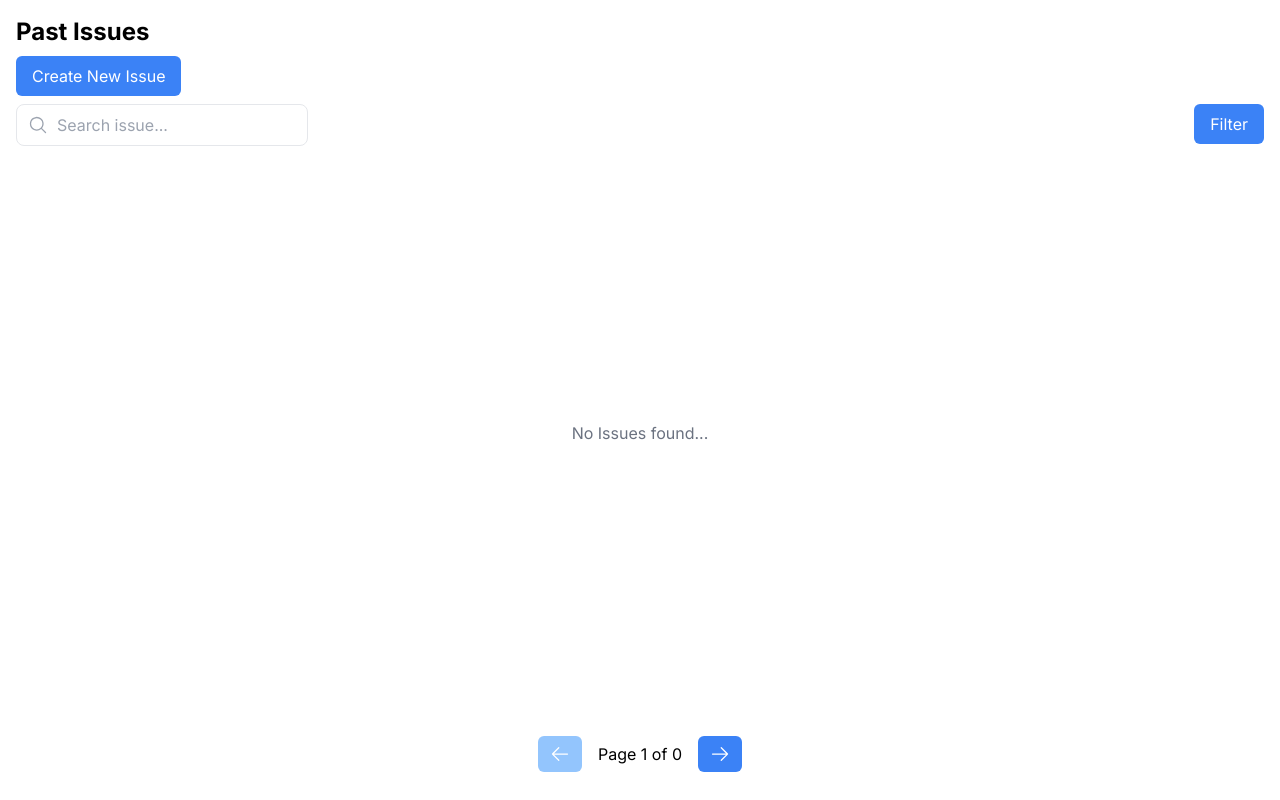
IssuesPage Component › should apply the filter
Click the button with test id "issues-page.filter-button.button" at coordinates (1229, 124), box x1=1194 y1=104 x2=1264 y2=144
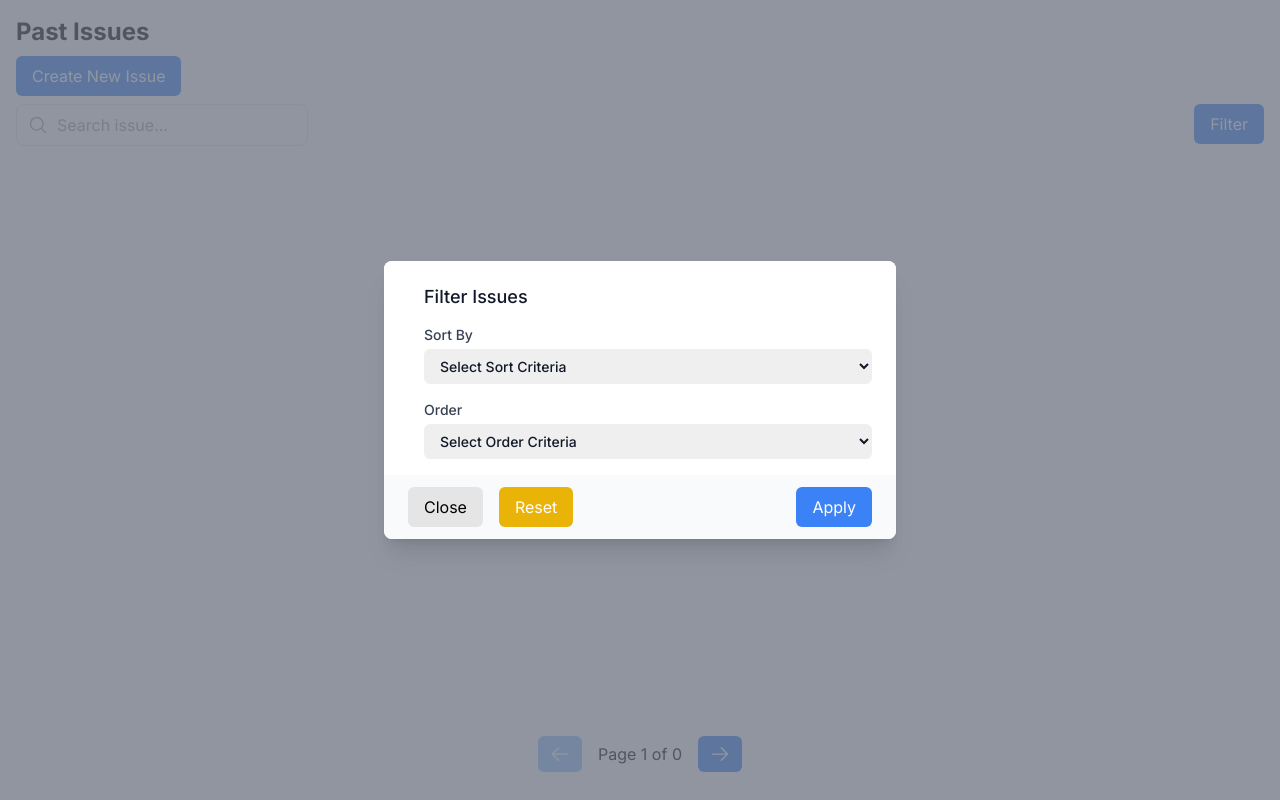
Expected: the text "Sort By" is shown, x1=424 y1=326 x2=473 y2=343
Select "Title" in the dropdown with test id "issues-page.filter-modal.sort-by-dropdown.dropdown-select" at coordinates (648, 366), box x1=424 y1=349 x2=872 y2=384
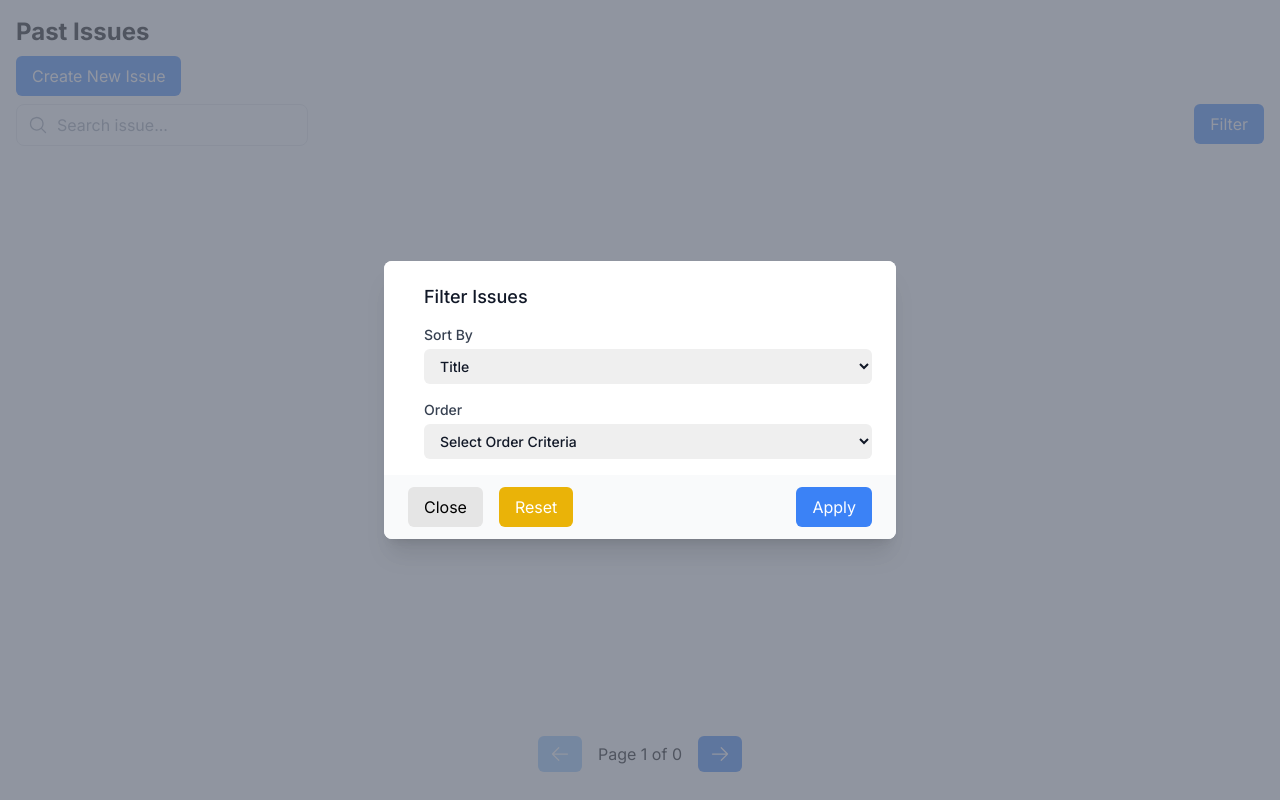
Click the button with test id "issues-page.filter-modal.apply-button.button" at coordinates (834, 507), box x1=796 y1=487 x2=872 y2=527
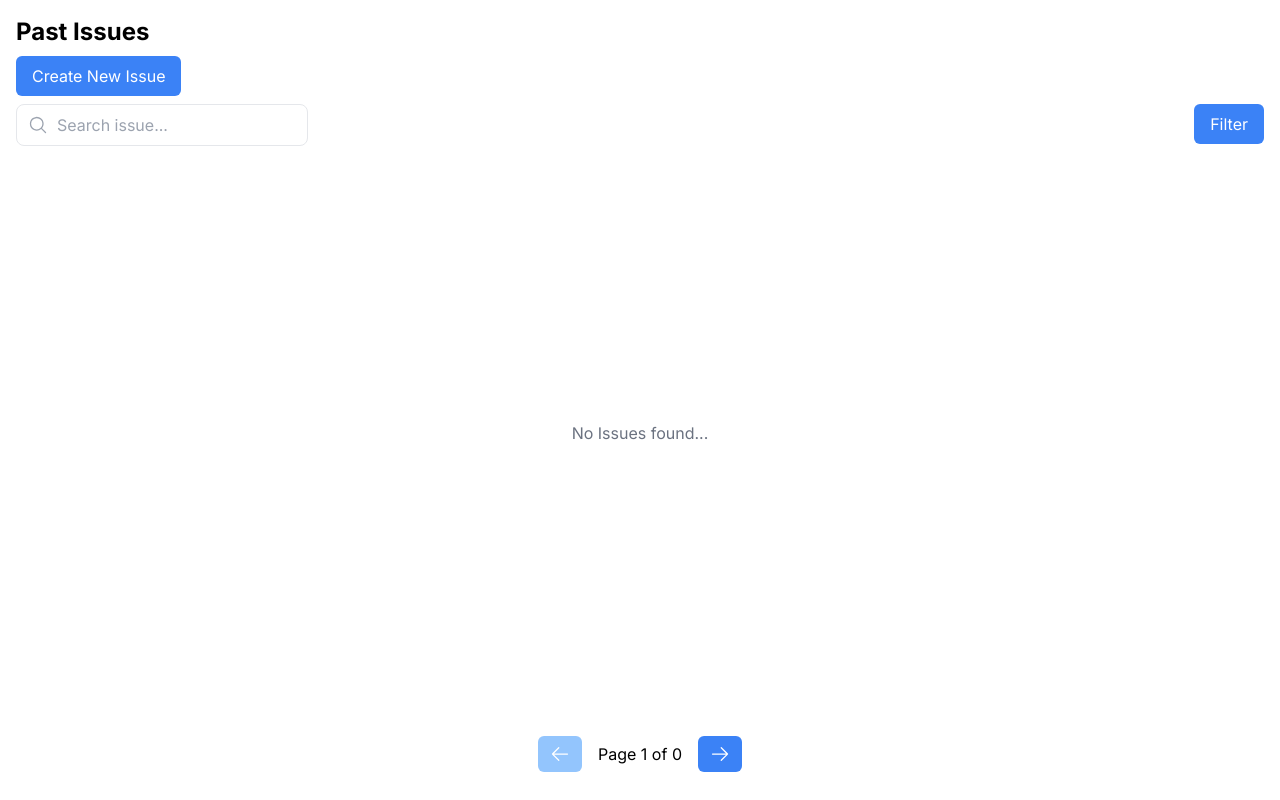
Expected: the label with test id "issues-page.filter-modal.sort-by-dropdown.dropdown-label" is gone
